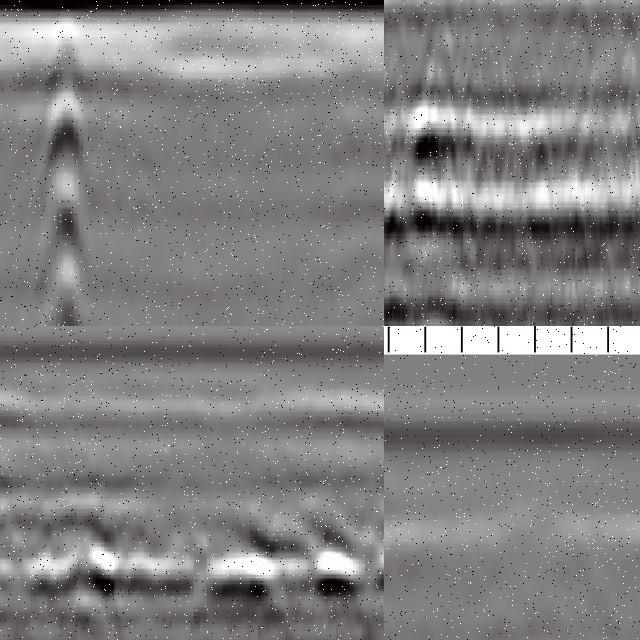crack: (43, 21, 92, 327)
loose: (31, 509, 374, 640), (385, 84, 485, 245)
